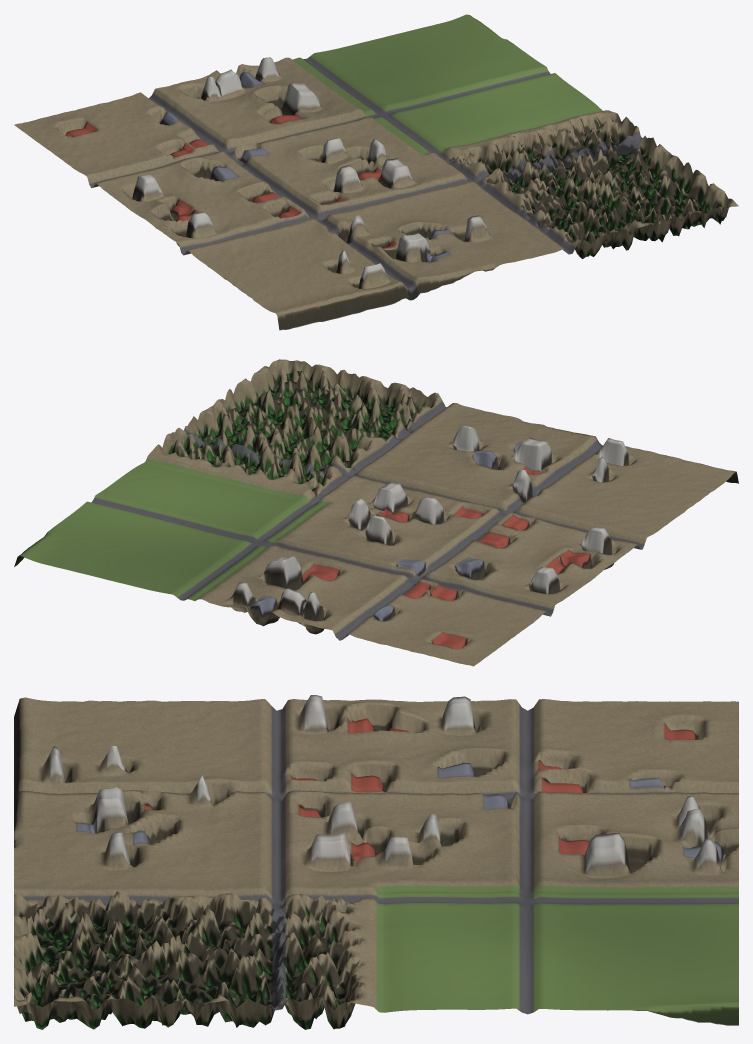
File: terrain-128.glb
3 renders of one model, top to bottom at view 1: azimuth 30°, elevation 25°; view 2: azimuth 150°, elevation 25°; view 3: azimuth 270°, elevation 25°, orthographic. The views are drawn at different scales.
Visible parts, largest first — view 1: Estimated terrain; view 2: Estimated terrain; view 3: Estimated terrain.
Boxes of the visible parts, x1,y1,x2,y2 form: Estimated terrain: (14,14,738,330); Estimated terrain: (14,359,738,666); Estimated terrain: (14,695,738,1029).
Size of the model in its own units: 1 by 0.0791 by 1.
Materials: 1 (1 with a texture image).
